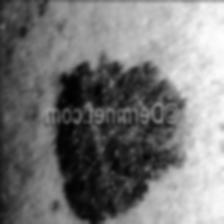Potentially Malignant Skin Tumors: (57, 54, 185, 220)
